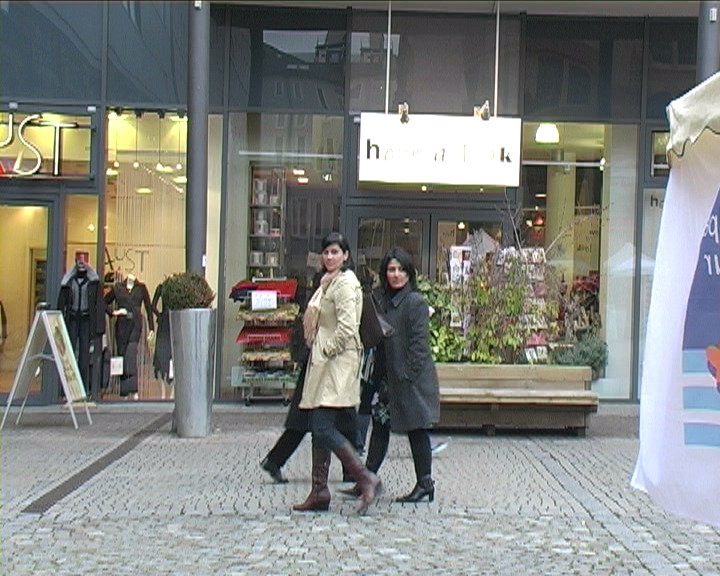deflection: (371, 249, 431, 361), (313, 235, 362, 348)
